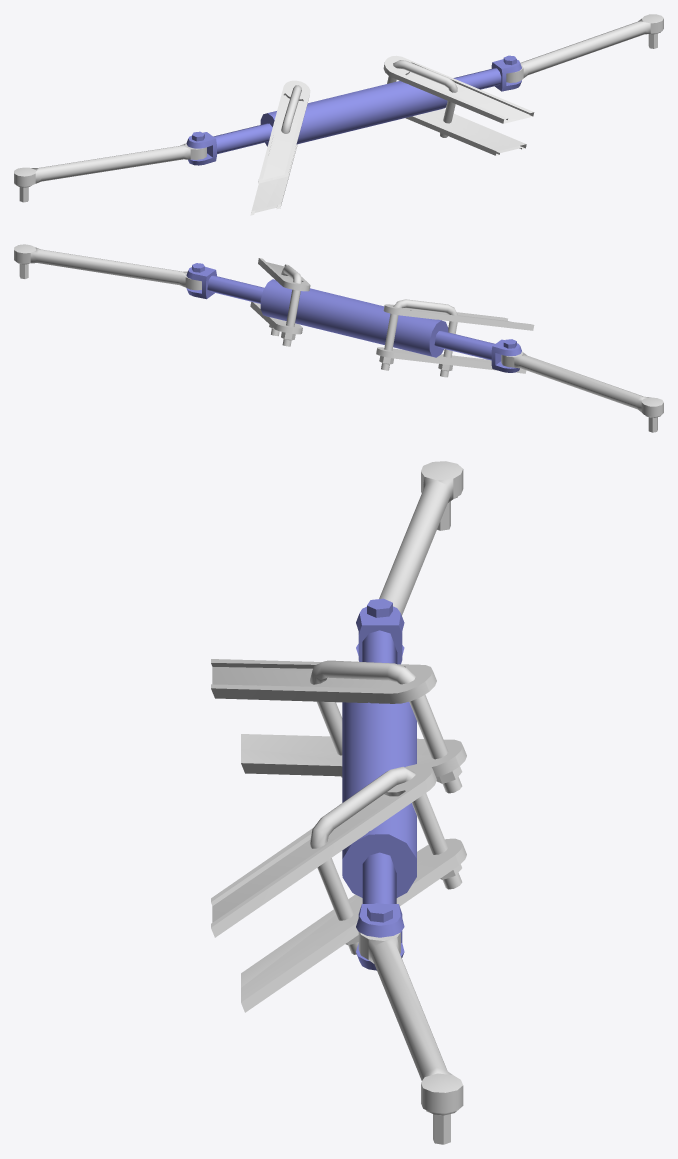
Rendered from G_md_series_hydrosteering 5.dae.
3 views of the same model, one above another, from view 1: azimuth 30°, elevation 25°; view 2: azimuth 150°, elevation 25°; view 3: azimuth 270°, elevation 25° (orthographic). The views are drawn at different scales.
Parts seen in each view (by area): view 1: G_md_series_hydrosteering_hanger, G_md_series_hydrosteering_body, G_md_series_hydrosteering_arm_R, G_md_series_hydrosteering_rack, G_md_series_hydrosteering_arm_L, G_md_series_hydrosteering_ubolts; view 2: G_md_series_hydrosteering_body, G_md_series_hydrosteering_hanger, G_md_series_hydrosteering_rack, G_md_series_hydrosteering_arm_L, G_md_series_hydrosteering_arm_R, G_md_series_hydrosteering_ubolts, G_md_series_hydrosteering_nuts; view 3: G_md_series_hydrosteering_hanger, G_md_series_hydrosteering_body, G_md_series_hydrosteering_ubolts, G_md_series_hydrosteering_arm_L, G_md_series_hydrosteering_rack, G_md_series_hydrosteering_arm_R.
Part boxes in pixels (<box>): G_md_series_hydrosteering_hanger: <box>250,55,534,215</box>; G_md_series_hydrosteering_body: <box>260,81,447,146</box>; G_md_series_hydrosteering_arm_R: <box>14,143,206,202</box>; G_md_series_hydrosteering_rack: <box>186,55,521,165</box>; G_md_series_hydrosteering_arm_L: <box>506,14,663,82</box>; G_md_series_hydrosteering_ubolts: <box>281,60,457,133</box>; G_md_series_hydrosteering_body: <box>260,279,448,357</box>; G_md_series_hydrosteering_hanger: <box>250,258,534,373</box>; G_md_series_hydrosteering_rack: <box>186,263,521,372</box>; G_md_series_hydrosteering_arm_L: <box>14,244,201,290</box>; G_md_series_hydrosteering_arm_R: <box>501,351,663,432</box>; G_md_series_hydrosteering_ubolts: <box>281,265,457,357</box>; G_md_series_hydrosteering_nuts: <box>269,324,452,377</box>; G_md_series_hydrosteering_hanger: <box>211,659,466,1012</box>; G_md_series_hydrosteering_body: <box>342,702,416,897</box>; G_md_series_hydrosteering_ubolts: <box>310,660,448,920</box>; G_md_series_hydrosteering_arm_L: <box>358,932,463,1144</box>; G_md_series_hydrosteering_rack: <box>356,598,404,970</box>; G_md_series_hydrosteering_arm_R: <box>379,461,463,615</box>.
Bounding box in the file's own units: 1.61 × 0.2762 × 0.192.
